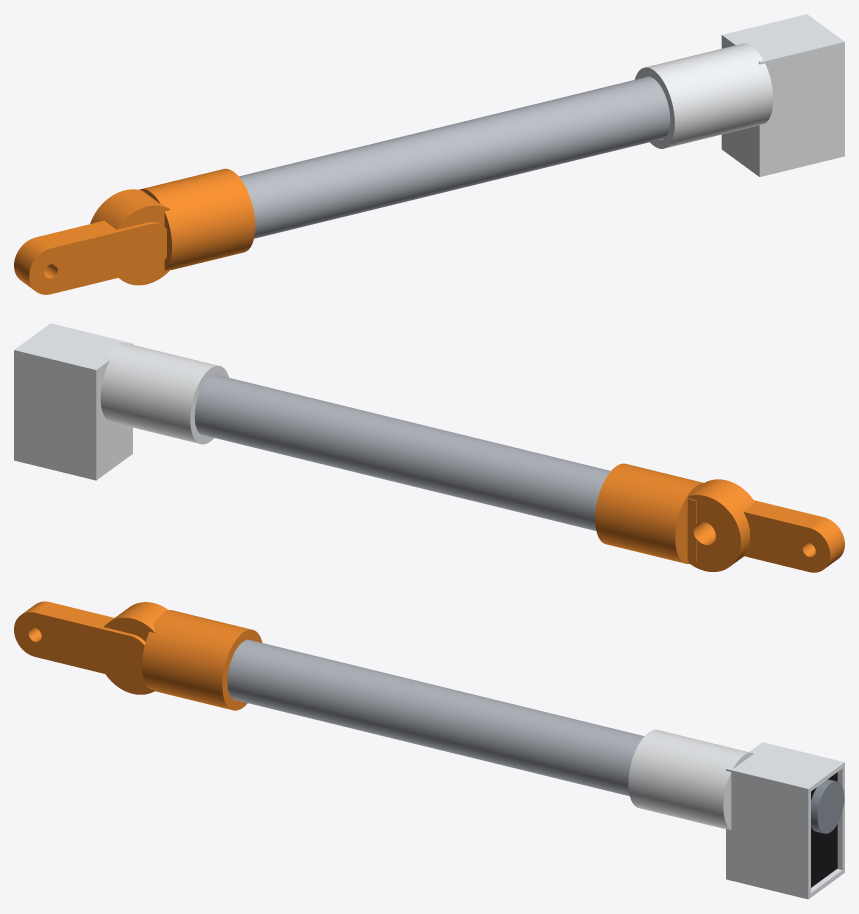
The model's file is fore.glb.
The picture shows the model from 3 angles, top to bottom: view 1: azimuth 30°, elevation 25°; view 2: azimuth 150°, elevation 25°; view 3: azimuth 330°, elevation 25°; orthographic projection. The views are drawn at different scales.
Visible parts, largest first — view 1: aluminium tube, forearm roll clamp (printed), forearm hub and rear lever (printed); view 2: aluminium tube, forearm roll clamp (printed), forearm hub and rear lever (printed); view 3: aluminium tube, forearm roll clamp (printed), forearm hub and rear lever (printed), servo horn, servo.
Part boxes in pixels (<box>): aluminium tube: <box>239,76,670,238</box>; forearm roll clamp (printed): <box>634,14,844,176</box>; forearm hub and rear lever (printed): <box>14,168,255,294</box>; aluminium tube: <box>194,374,610,530</box>; forearm roll clamp (printed): <box>14,323,228,480</box>; forearm hub and rear lever (printed): <box>595,463,844,572</box>; aluminium tube: <box>227,639,644,796</box>; forearm roll clamp (printed): <box>628,729,844,899</box>; forearm hub and rear lever (printed): <box>14,601,262,710</box>; servo horn: <box>811,779,844,833</box>; servo: <box>811,772,837,887</box>.
Bounding box in the file's own units: 0.3765 × 0.053 × 0.037.
